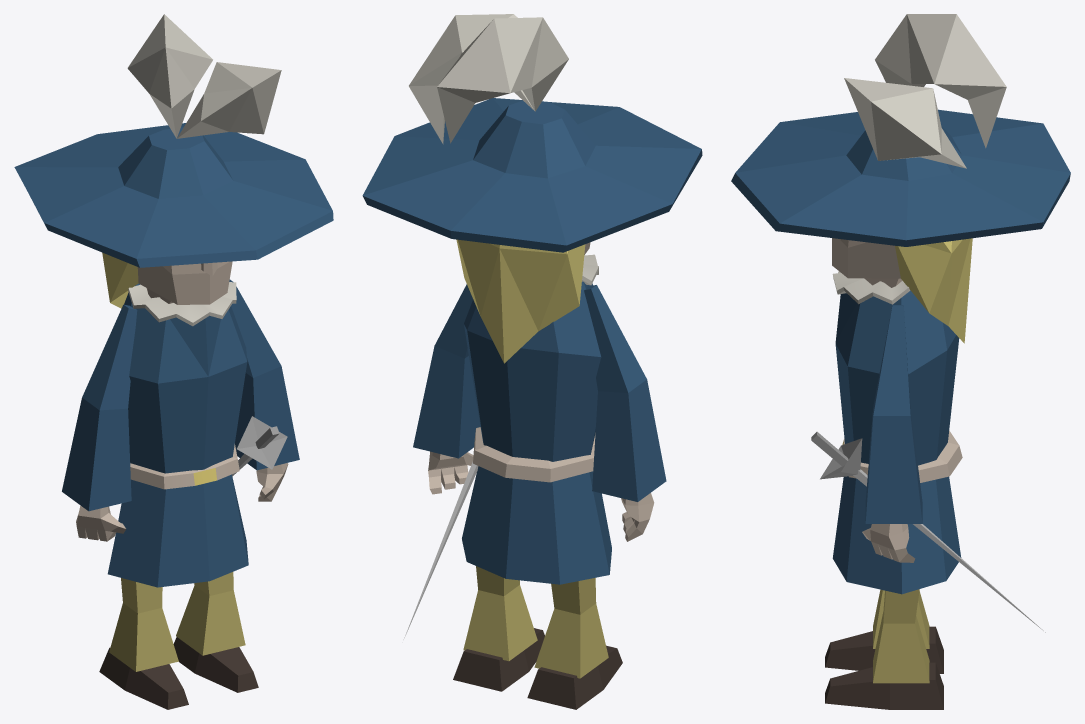
3 views of the same model, side by side, from view 1: azimuth 30°, elevation 25°; view 2: azimuth 150°, elevation 25°; view 3: azimuth 270°, elevation 25° (orthographic). The views are drawn at different scales.
Visible parts, largest first — view 1: Aristocrat_medievalfantasyassets; view 2: Aristocrat_medievalfantasyassets; view 3: Aristocrat_medievalfantasyassets.
Boxes of the visible parts, bbox=[...] form: Aristocrat_medievalfantasyassets: bbox=[14, 14, 333, 709]; Aristocrat_medievalfantasyassets: bbox=[362, 14, 702, 709]; Aristocrat_medievalfantasyassets: bbox=[731, 14, 1070, 709].
Size of the model in its own units: 3.81 by 8.88 by 4.06.
Materials: 1 (1 with a texture image).
